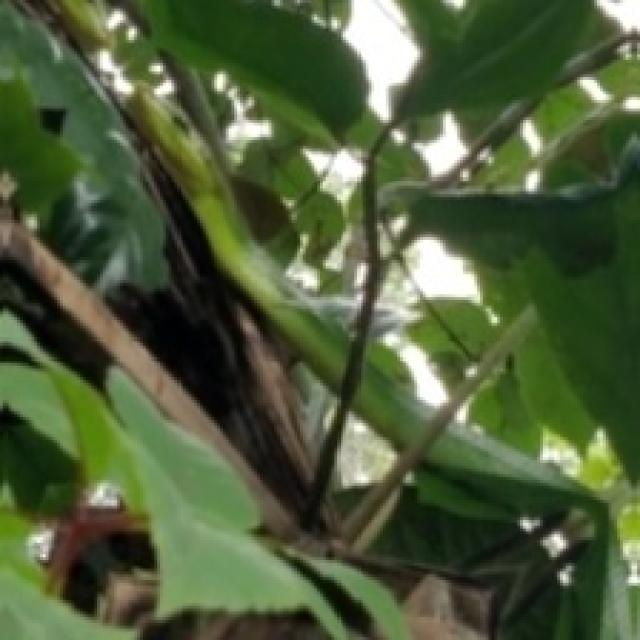red-tailed green ratsnake: (141, 91, 349, 391), (420, 428, 594, 517), (354, 342, 432, 449)
